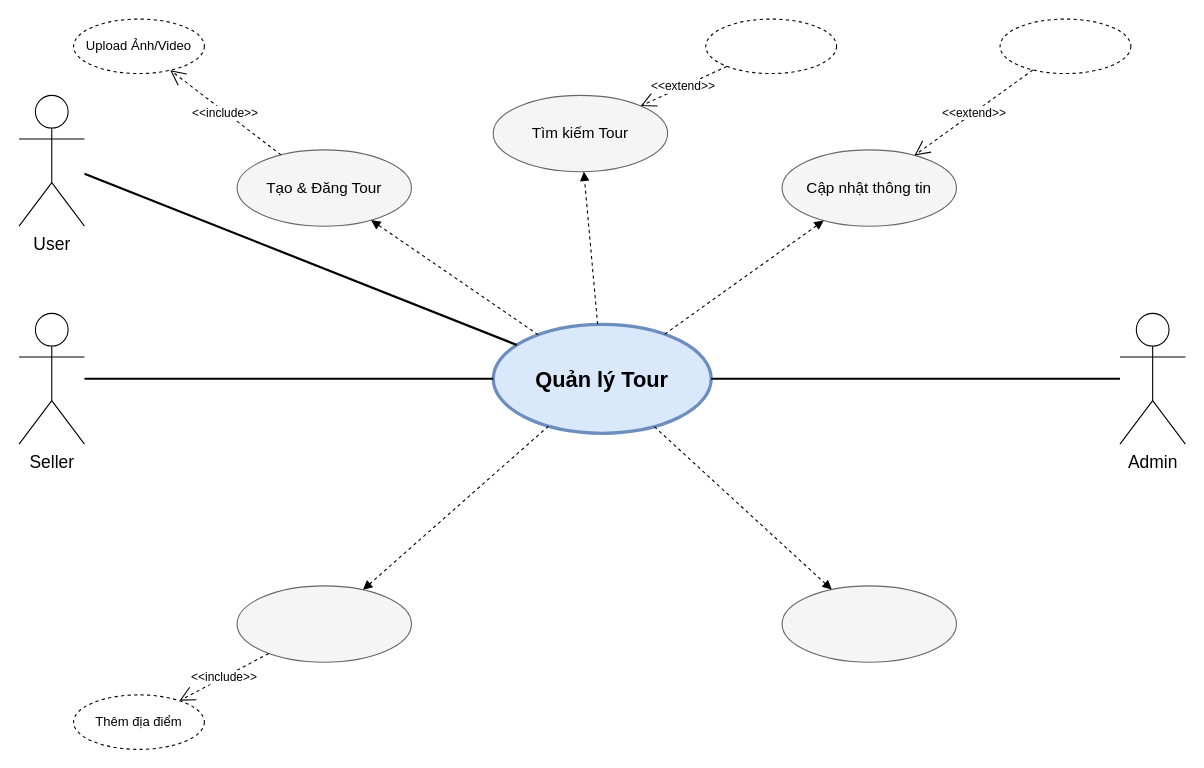
This 1204x768 diagram has some shape labels left out. Here are the shapes that lost their labels. From the top down, the centre of each, then its label:
At (771,46): "Lọc Tour".
At (1065,46): "Gán HDV".
At (323,623): "Quản lý Lịch trình".
At (868,623): "Phê duyệt Tour".
